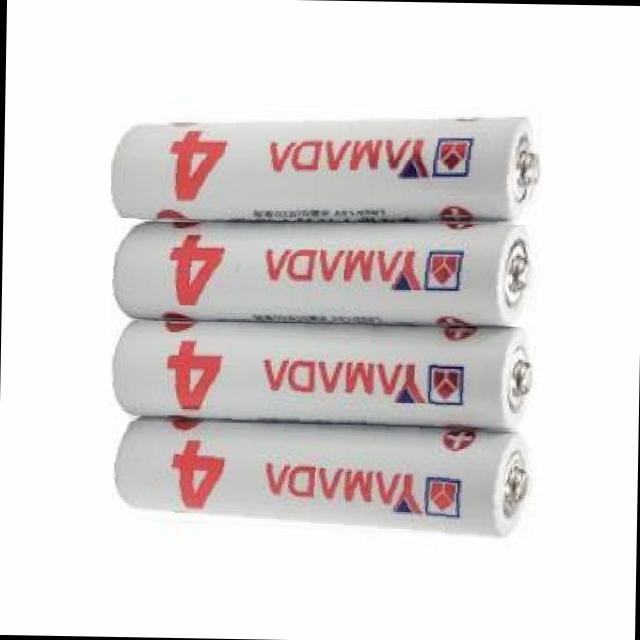Hazard: (108, 105, 540, 228), (108, 421, 537, 542), (106, 319, 540, 434), (110, 218, 538, 328)
